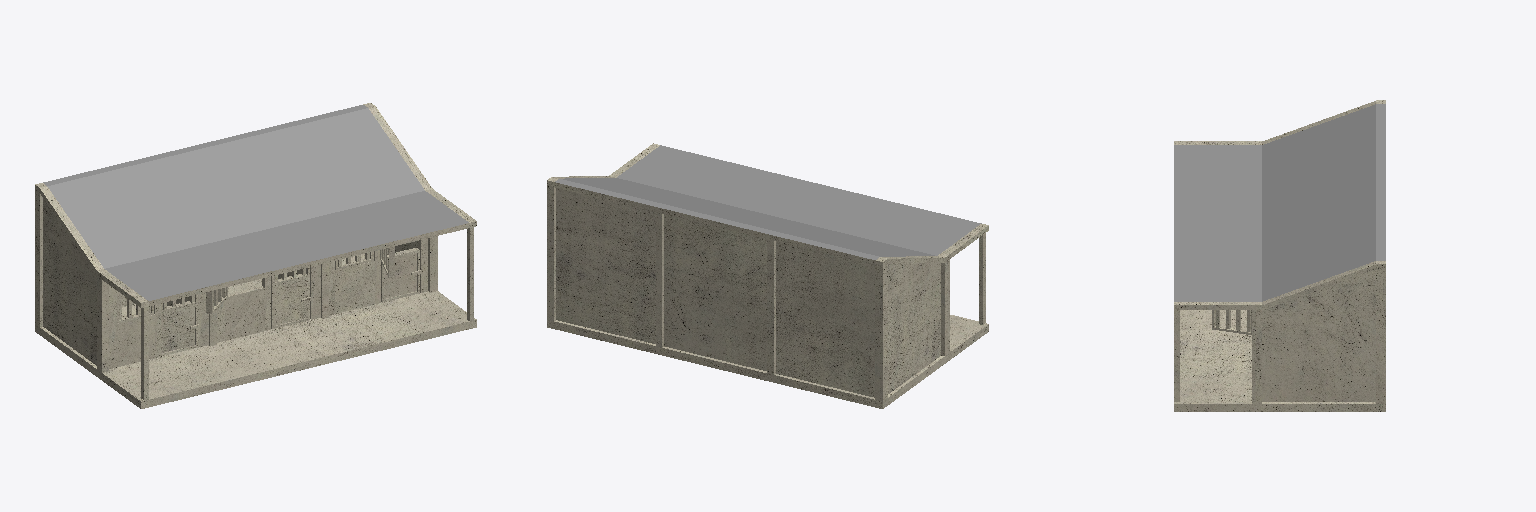
The picture shows the model from 3 angles: view 1: azimuth 30°, elevation 25°; view 2: azimuth 150°, elevation 25°; view 3: azimuth 270°, elevation 25°; orthographic projection.
Parts seen in each view (by area): view 1: Plane01; view 2: Plane01; view 3: Plane01.
Part boxes in pixels (left/top/right/bottom): Plane01: left=35, top=103, right=476, bottom=408; Plane01: left=547, top=143, right=988, bottom=408; Plane01: left=1174, top=100, right=1385, bottom=411.
Bounding box in the file's own units: 12.61 × 5.28 × 6.9.
2 materials, 1 textured.